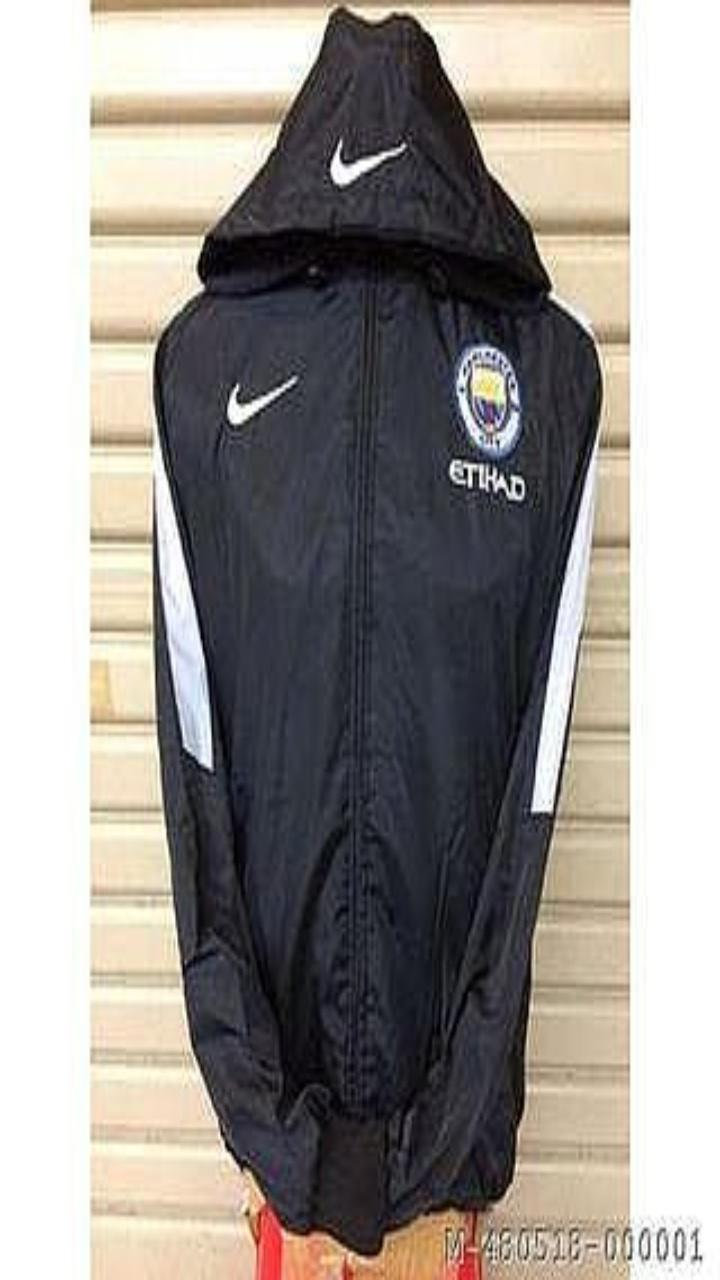Sports_Jacket: (154, 10, 600, 1253)
